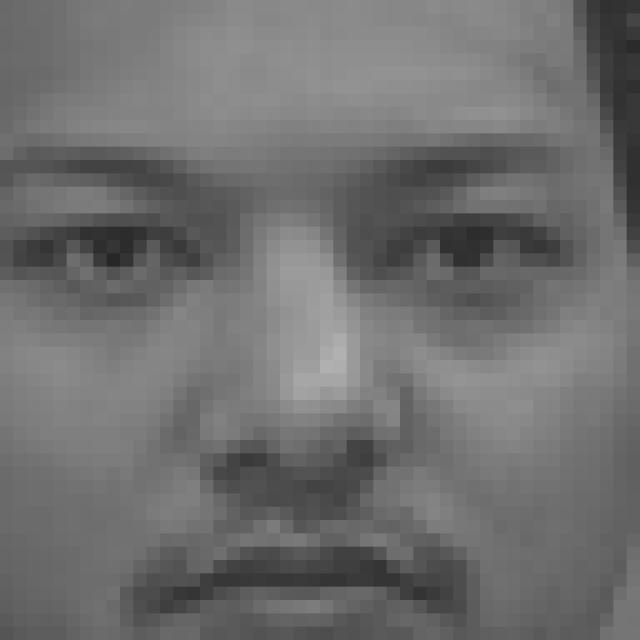neutral: (5, 129, 594, 640)
